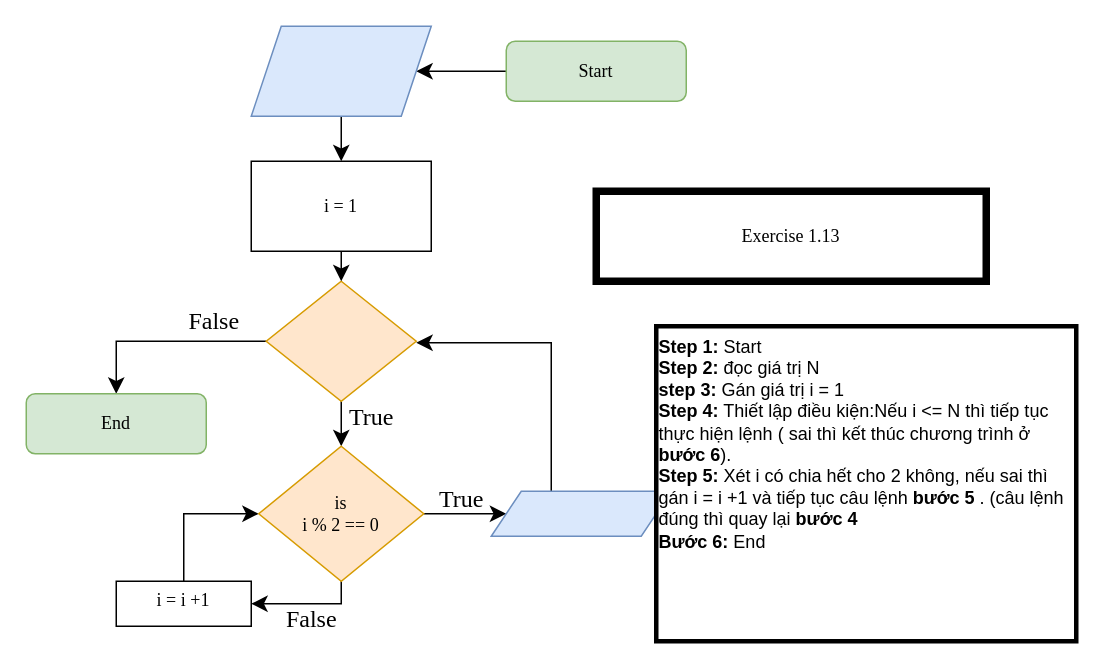
Image size: 1104x669. Some labels were removed from this diagram. The centre of each missing label's shape, as x and y in pixels:
is i <= N: [340,340]
Print i: [580,513]
Read N: [340,70]
